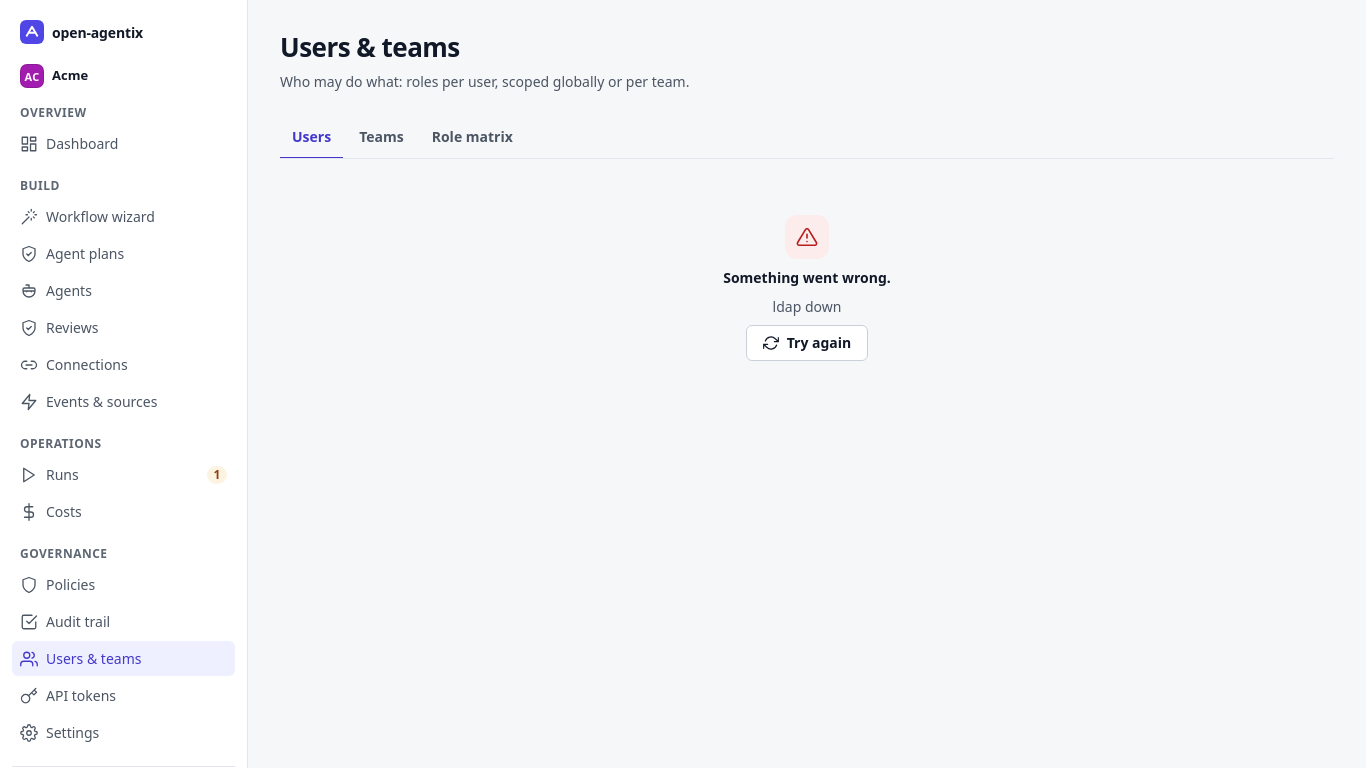
Test: users, teams and roles › shows empty and error states
The width and height of the screenshot is (1366, 768).
Expected: the text "ldap down" is shown, [773,296,841,317]
Step 1. Click the tab "Teams" → (381, 138), box [347,116,416,159]
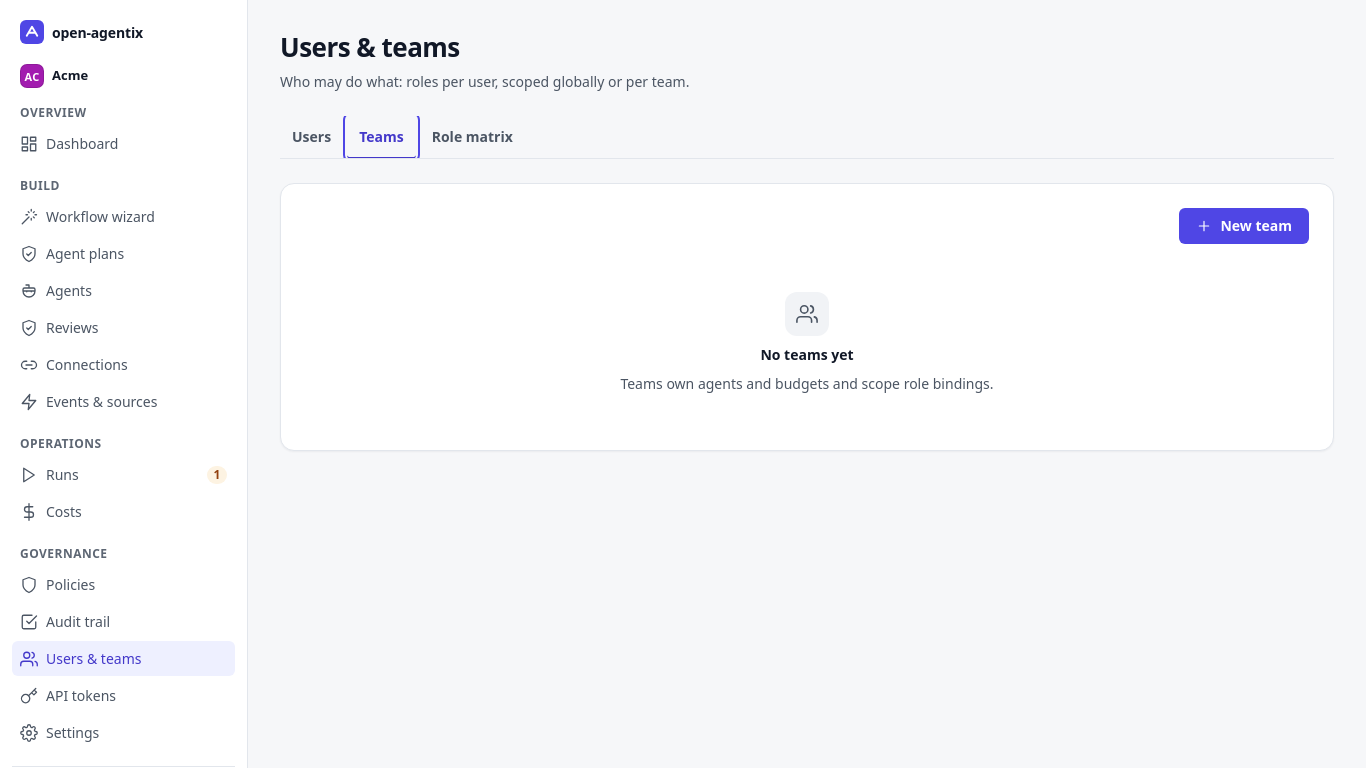
Result: the text "No teams yet" is shown at [760,344,854,365]
